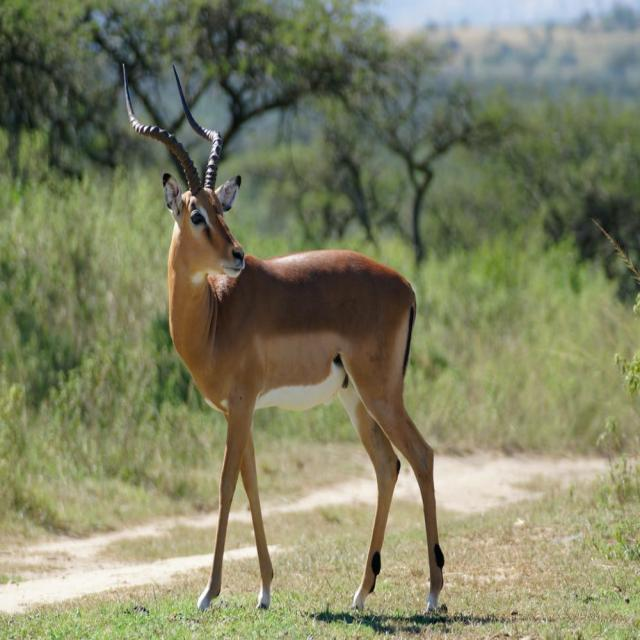Antelope: (117, 58, 450, 622)
